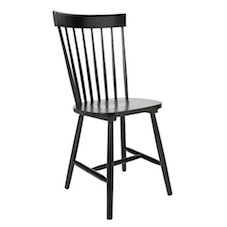chair: (33, 4, 184, 224)
